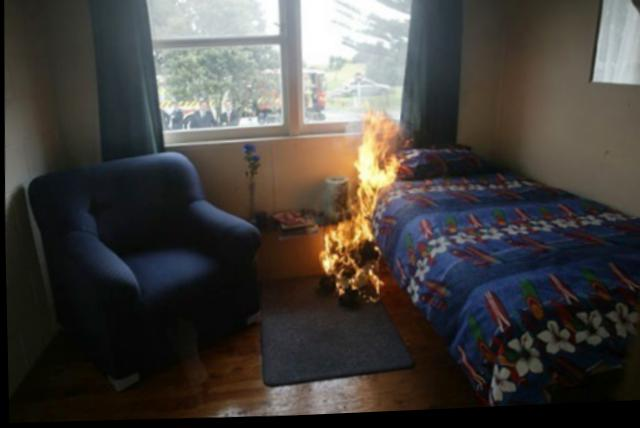fire: (310, 108, 410, 312)
